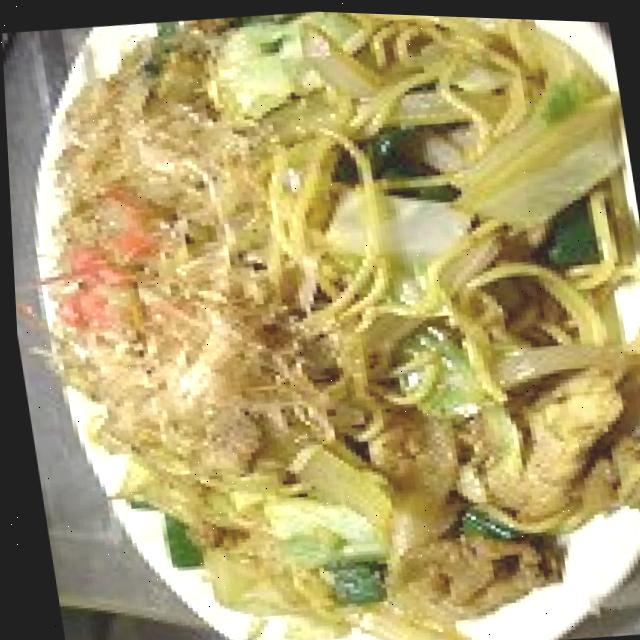面条主食: (18, 1, 640, 640)
